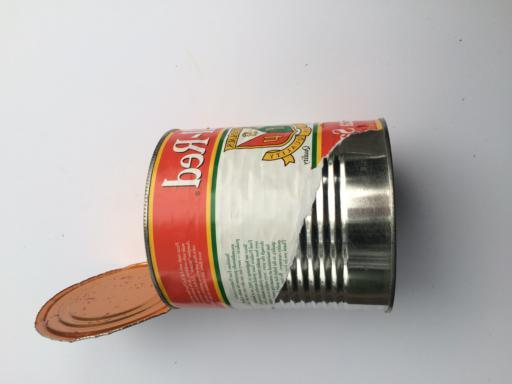metal: (36, 117, 397, 342), (143, 118, 396, 345)
